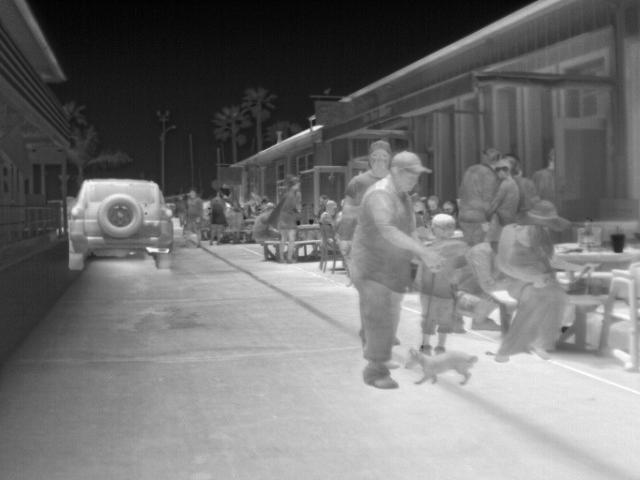car: (68, 177, 170, 272)
dog: (400, 343, 480, 386)
person: (349, 151, 452, 388), (492, 201, 569, 361), (416, 212, 462, 352), (453, 145, 500, 246), (342, 138, 394, 217), (275, 178, 305, 264), (489, 160, 522, 223), (531, 146, 557, 202), (182, 188, 204, 246), (207, 190, 228, 246), (317, 197, 340, 245), (252, 203, 276, 243)
